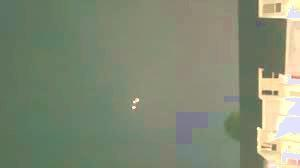Plane: (115, 88, 156, 114)
